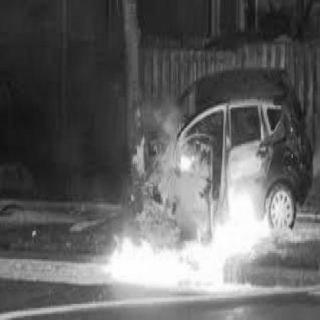Fire: (83, 83, 285, 289)
